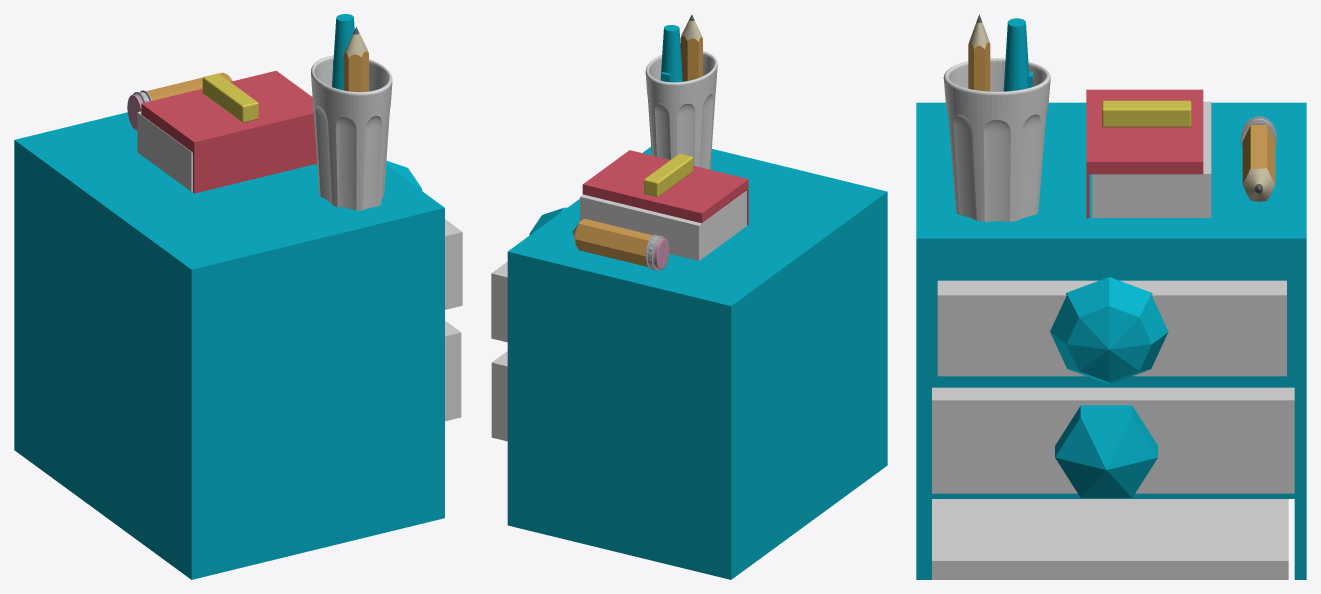
File: Stunning Gaaris (1).glb
3 views of the same model, side by side, from view 1: azimuth 30°, elevation 25°; view 2: azimuth 150°, elevation 25°; view 3: azimuth 270°, elevation 25° (orthographic). The views are drawn at different scales.
Visible parts, largest first — view 1: Mesh_Mesh_head_geo.001_lambert2SG.001; view 2: Mesh_Mesh_head_geo.001_lambert2SG.001; view 3: Mesh_Mesh_head_geo.001_lambert2SG.001.
Boxes of the visible parts, bbox=[...] form: Mesh_Mesh_head_geo.001_lambert2SG.001: bbox=[14, 14, 462, 579]; Mesh_Mesh_head_geo.001_lambert2SG.001: bbox=[491, 14, 887, 579]; Mesh_Mesh_head_geo.001_lambert2SG.001: bbox=[916, 14, 1306, 579].
Size of the model in its own units: 68.78 by 99 by 65.58.
